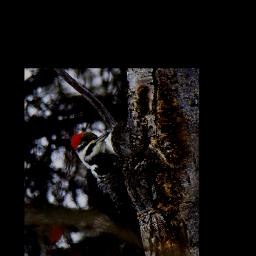Woodpecker: (68, 130, 139, 236)
